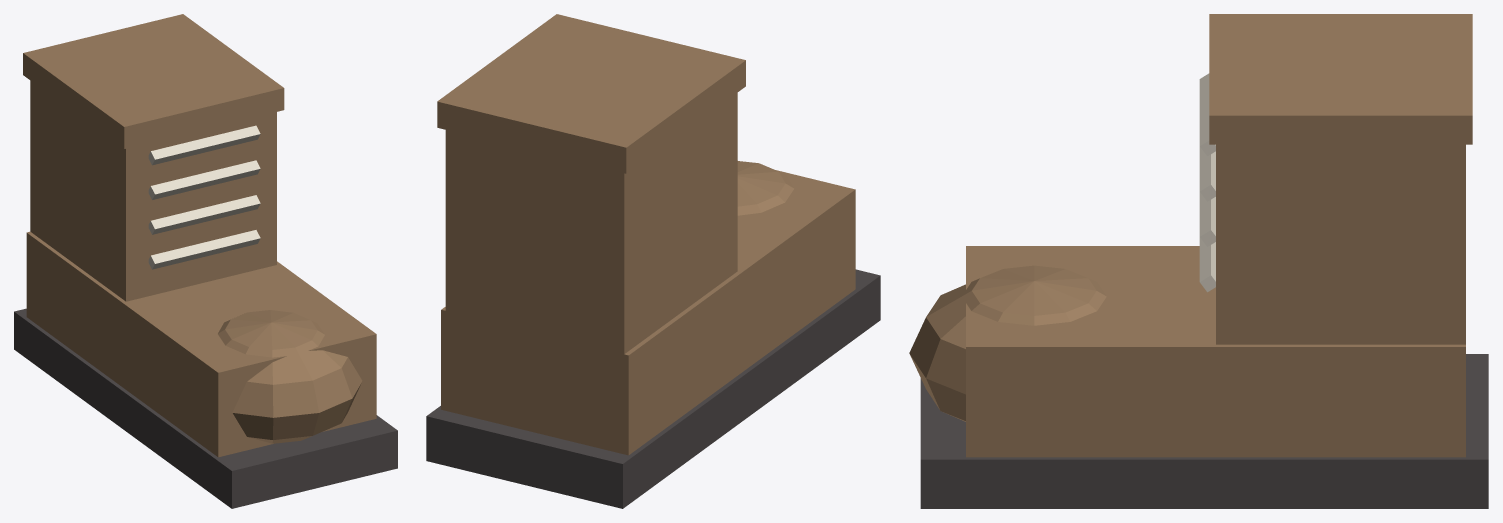
Rendered from dm_shoe.glb.
3 renders of one model, left to right at view 1: azimuth 30°, elevation 25°; view 2: azimuth 150°, elevation 25°; view 3: azimuth 270°, elevation 25°, orthographic. The views are drawn at different scales.
Visible parts, largest first — view 1: dm_shoe; view 2: dm_shoe; view 3: dm_shoe.
Boxes of the visible parts, box(x1,y1,x2,y2) form: dm_shoe: box(14, 14, 397, 508); dm_shoe: box(426, 14, 880, 508); dm_shoe: box(909, 14, 1488, 508).
Size of the model in its own units: 0.11 by 0.19 by 0.255.
